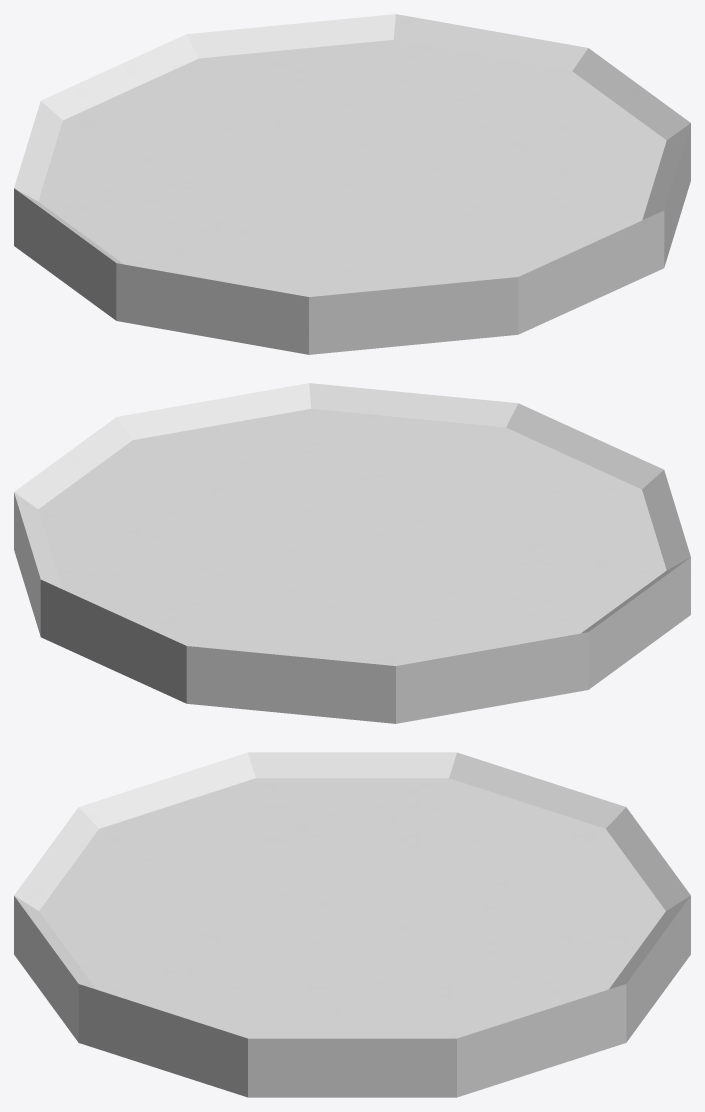
The model's file is tanier.glb.
3 views of the same model, one above another, from view 1: azimuth 30°, elevation 25°; view 2: azimuth 150°, elevation 25°; view 3: azimuth 270°, elevation 25° (orthographic). The views are drawn at different scales.
Parts seen in each view (by area): view 1: Cylinder; view 2: Cylinder; view 3: Cylinder.
Boxes of the visible parts, <box> form: Cylinder: <box>14,14,690,354</box>; Cylinder: <box>14,383,690,723</box>; Cylinder: <box>14,752,690,1097</box>.
Size of the model in its own units: 0.26 by 0.025 by 0.26.
Materials: 1 (1 with a texture image).
